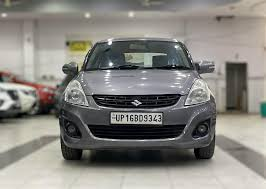Swift: (52, 35, 222, 164)
